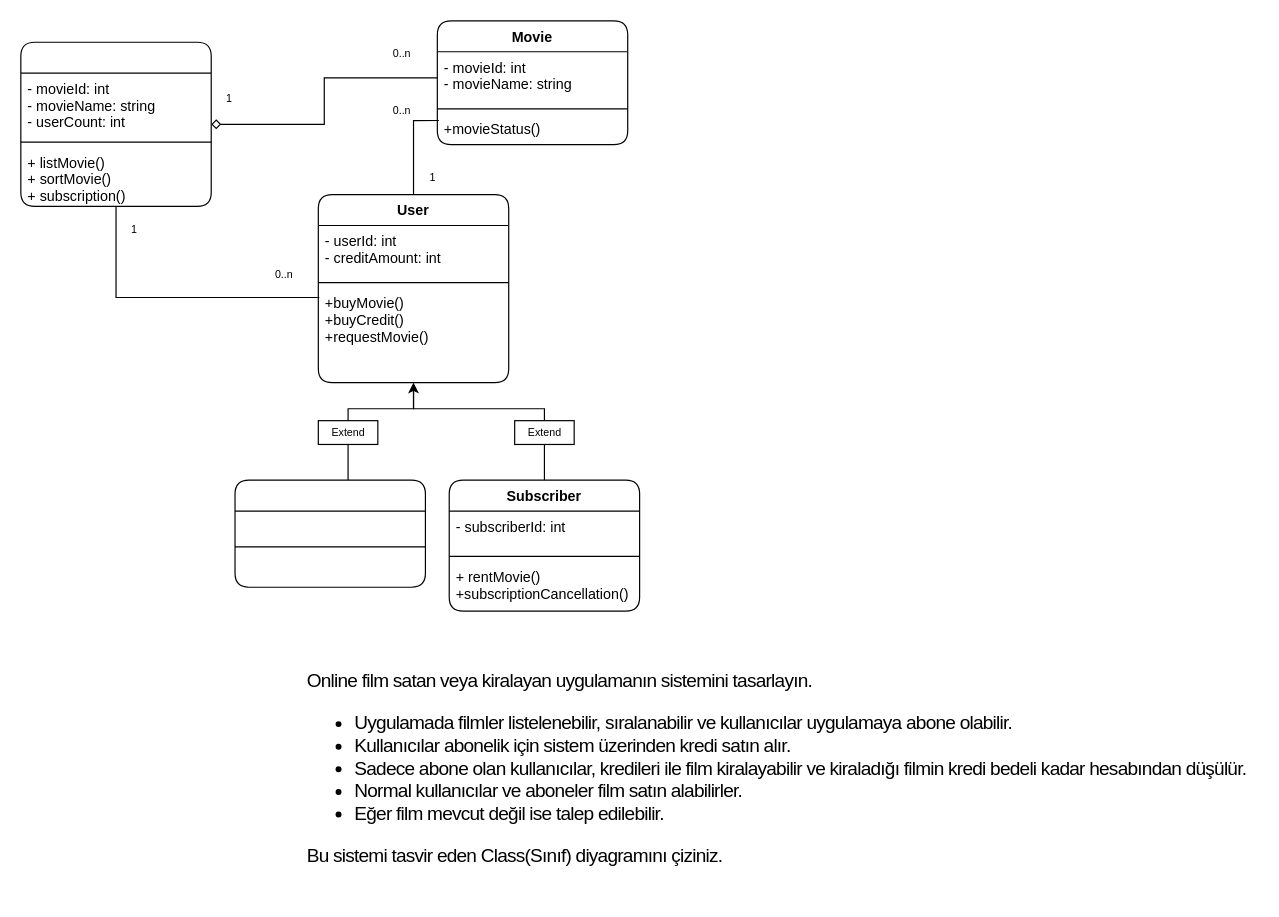
Some shapes in this 1279 by 917 pixel diagram are drawn without their labels. The shapes that lost their labels are listed below. From the top down, each one's box as (x1, y1, x2, y2) in pixels, then its label:
(20, 41, 211, 206): Online Movie App
(234, 479, 425, 587): Reguler User
